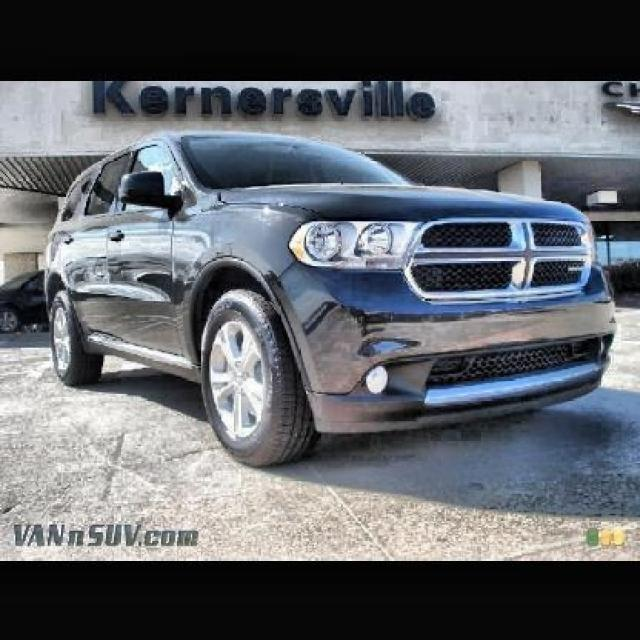black: (41, 130, 618, 466)
